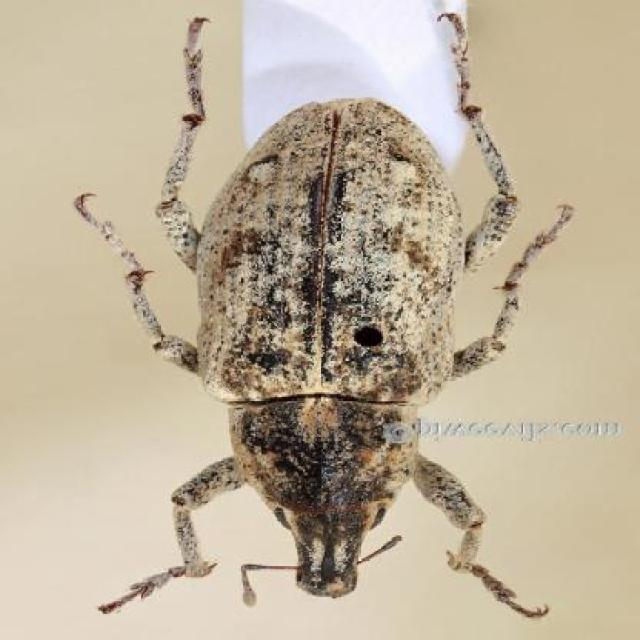rice-bug: (132, 13, 546, 615)
